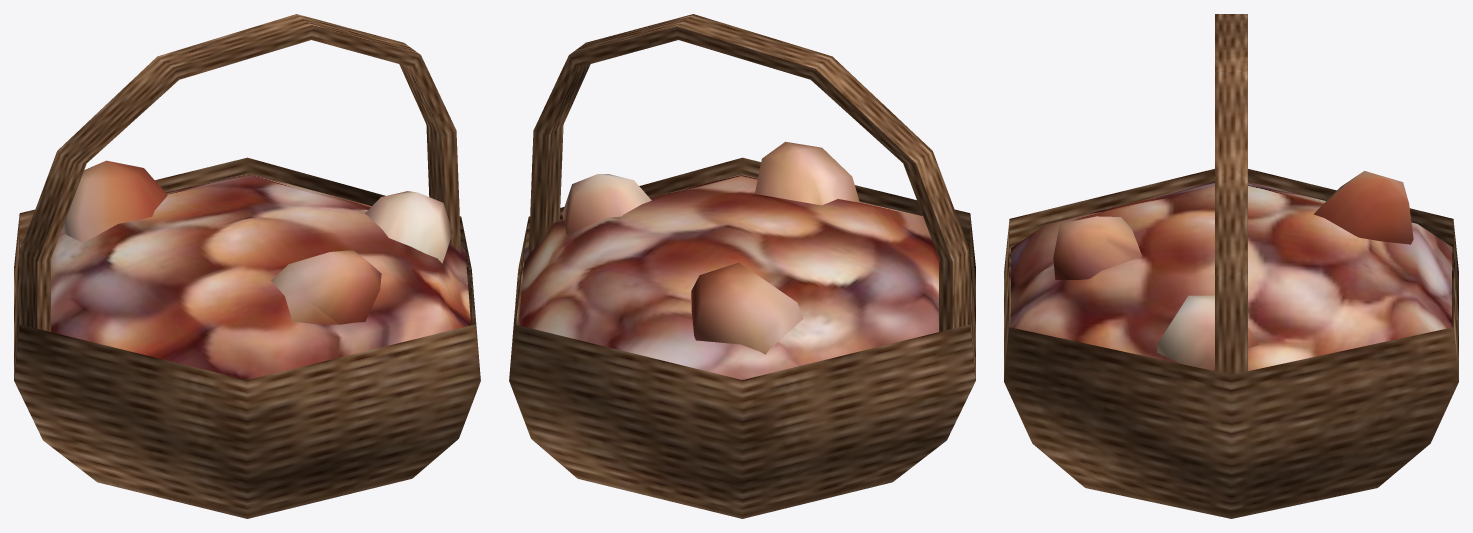
The model's file is eggbasket.fbx.
3 renders of one model, left to right at view 1: azimuth 30°, elevation 25°; view 2: azimuth 150°, elevation 25°; view 3: azimuth 270°, elevation 25°, orthographic. The views are drawn at different scales.
Parts seen in each view (by area): view 1: lod_high, pSphere1, pCube1, pSphere5, pSphere4, pSphere3; view 2: lod_high, pSphere1, pCube1, pSphere4, pSphere5, pSphere3; view 3: lod_high, pSphere1, pCube1, pSphere4, pSphere5, pSphere3.
Part boxes in pixels (box(x1,y1,x2,y2)): lod_high: box(14, 157, 480, 518); pSphere1: box(21, 173, 470, 379); pCube1: box(20, 14, 461, 331); pSphere5: box(271, 250, 381, 324); pSphere4: box(61, 160, 167, 242); pSphere3: box(365, 191, 452, 263); lod_high: box(509, 157, 975, 518); pSphere1: box(518, 174, 969, 379); pCube1: box(528, 14, 969, 331); pSphere4: box(691, 262, 803, 354); pSphere5: box(755, 141, 859, 205); pSphere3: box(562, 174, 651, 234); lod_high: box(1004, 169, 1458, 518); pSphere1: box(1010, 181, 1452, 370); pCube1: box(1215, 14, 1247, 374); pSphere4: box(1313, 171, 1413, 244); pSphere5: box(1053, 216, 1141, 279); pSphere3: box(1157, 295, 1258, 370).
Size of the model in its own units: 63.34 by 54.4 by 55.95.
1 material, 1 textured.
